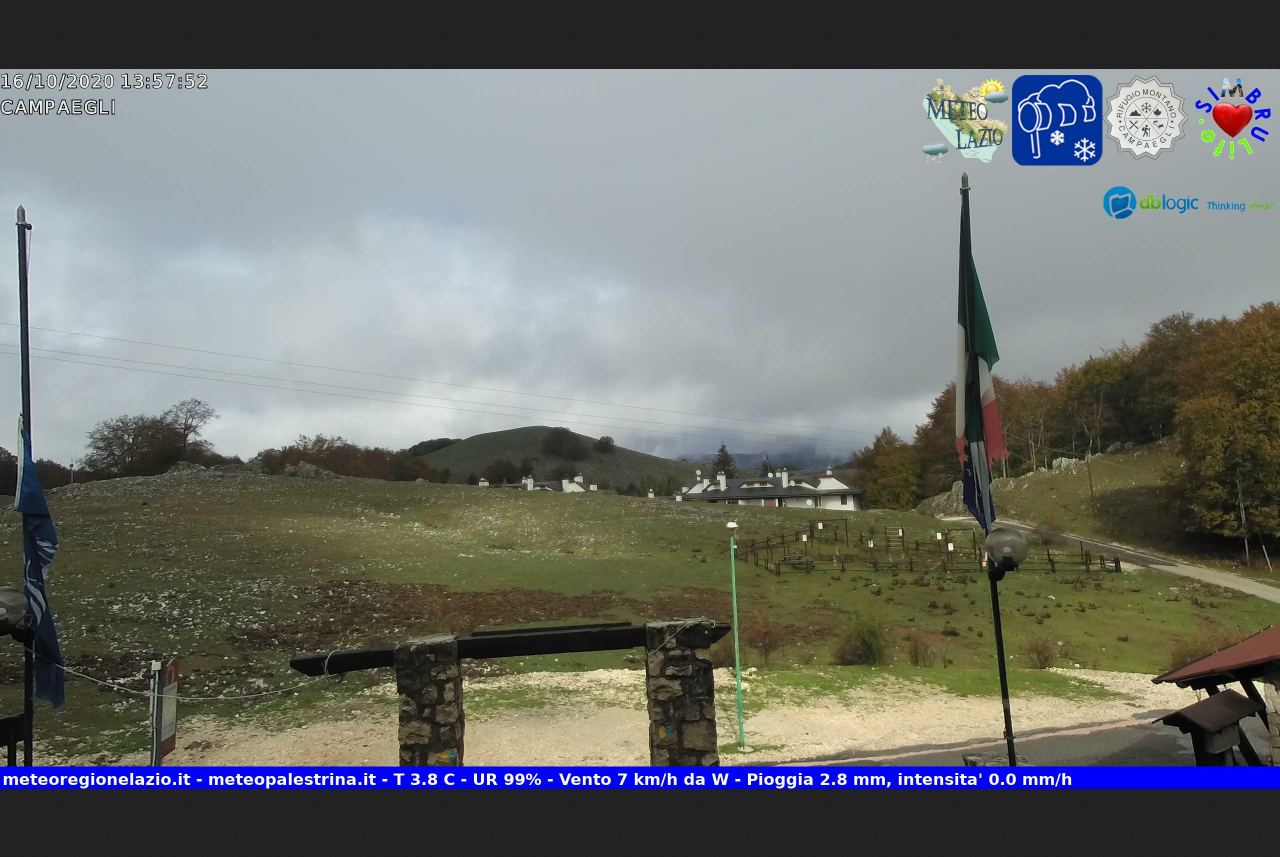no: (940, 193, 1023, 472), (8, 411, 84, 707)
